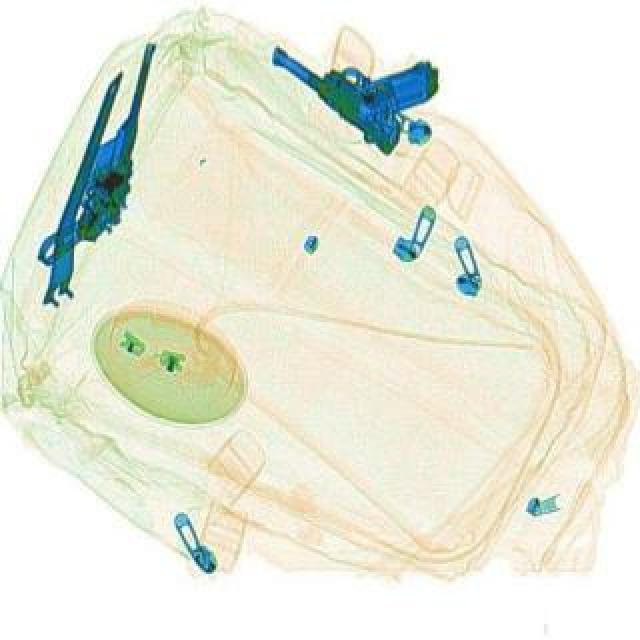gun: (34, 28, 158, 274), (266, 0, 442, 156)
